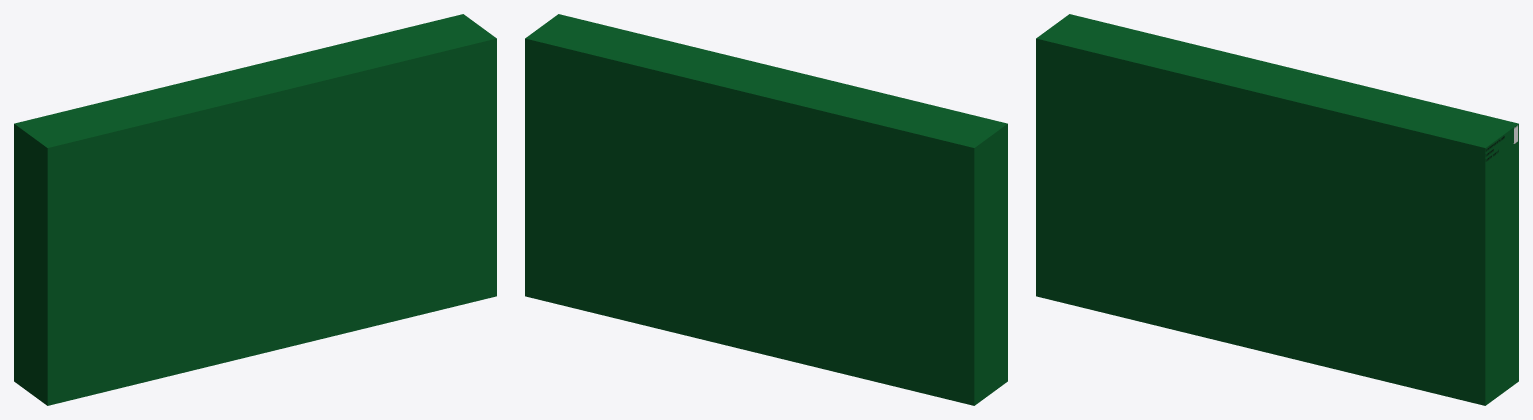
3 views of the same model, side by side, from view 1: azimuth 30°, elevation 25°; view 2: azimuth 150°, elevation 25°; view 3: azimuth 330°, elevation 25° (orthographic).
Parts seen in each view (by area): view 1: BlueChip_Interior.188; view 2: BlueChip_Interior.188; view 3: BlueChip_Interior.188.
Part boxes in pixels (<box>): BlueChip_Interior.188: <box>14,14,496,405</box>; BlueChip_Interior.188: <box>525,14,1007,405</box>; BlueChip_Interior.188: <box>1036,14,1518,405</box>.
Bounding box in the file's own units: 310 × 170 × 40.
